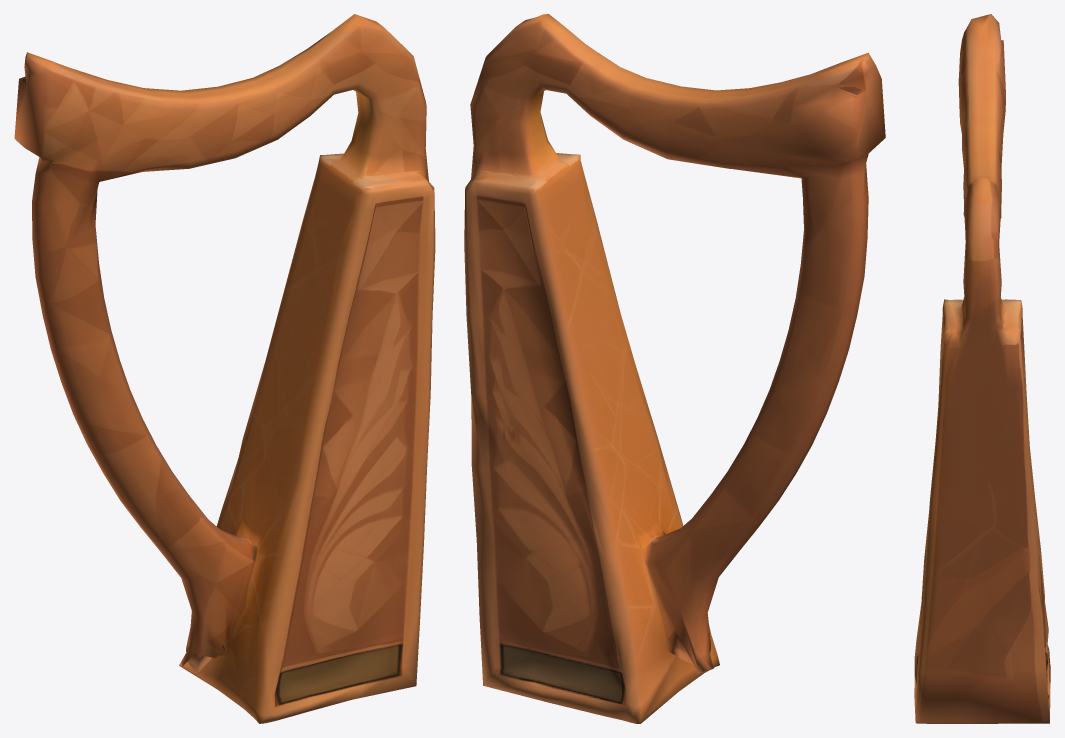
File: Harp.glb
3 renders of one model, left to right at view 1: azimuth 30°, elevation 25°; view 2: azimuth 150°, elevation 25°; view 3: azimuth 270°, elevation 25°, orthographic. The views are drawn at different scales.
Bounding box in the file's own units: 1.14 × 1.9 × 0.4099.
1 material, 1 textured.
